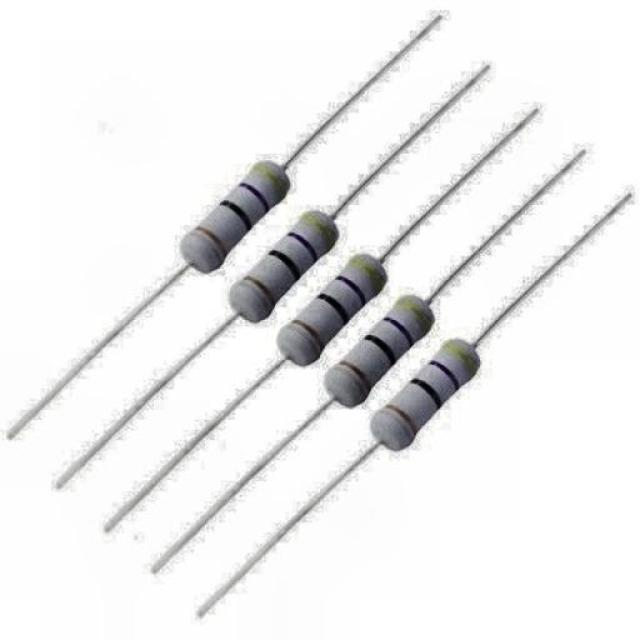Resistor: (35, 50, 410, 400), (147, 155, 499, 486), (109, 100, 453, 428), (212, 200, 538, 515), (262, 242, 587, 554)
